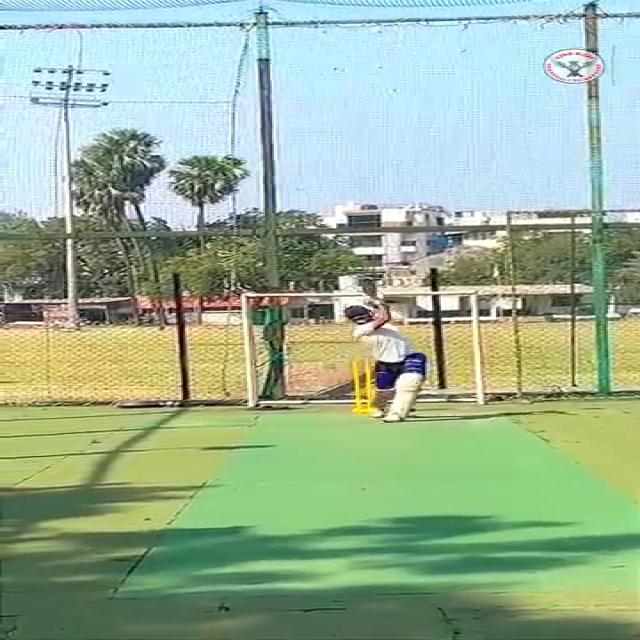batsman: (290, 275, 430, 428)
